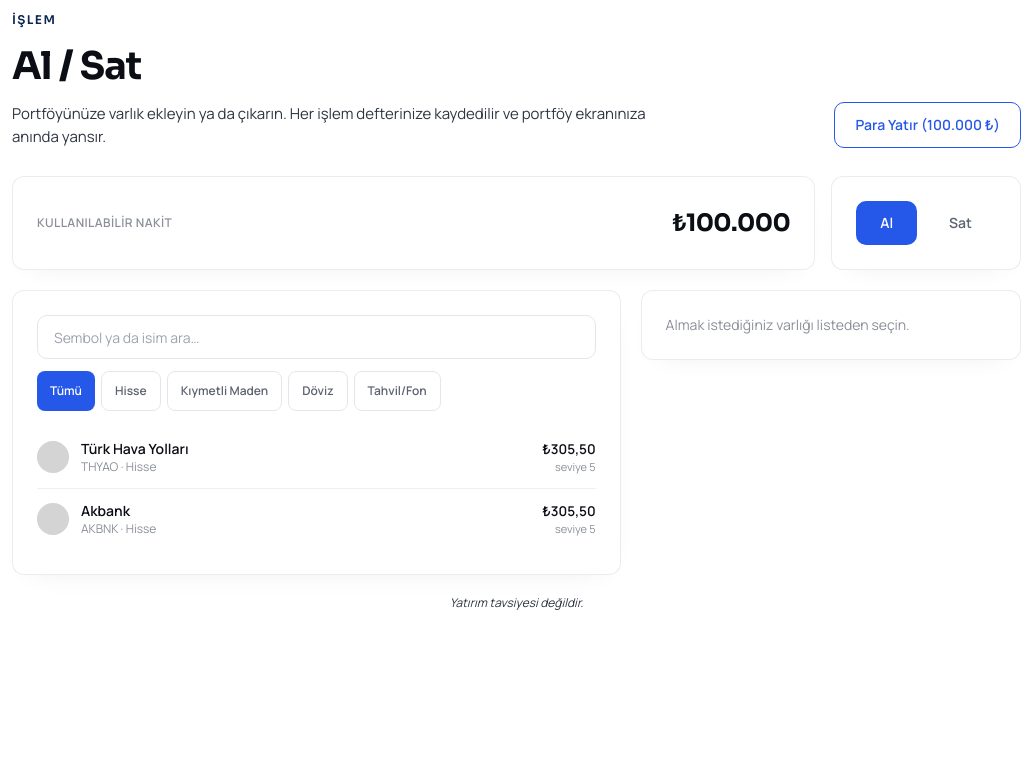
Test: TradePage › SAT sekmesi yalnızca ELDEKİ pozisyonları listeler
The image size is (1036, 780).
Click the button "Sat": (961, 223) top-left (925, 201), bottom-right (996, 245)
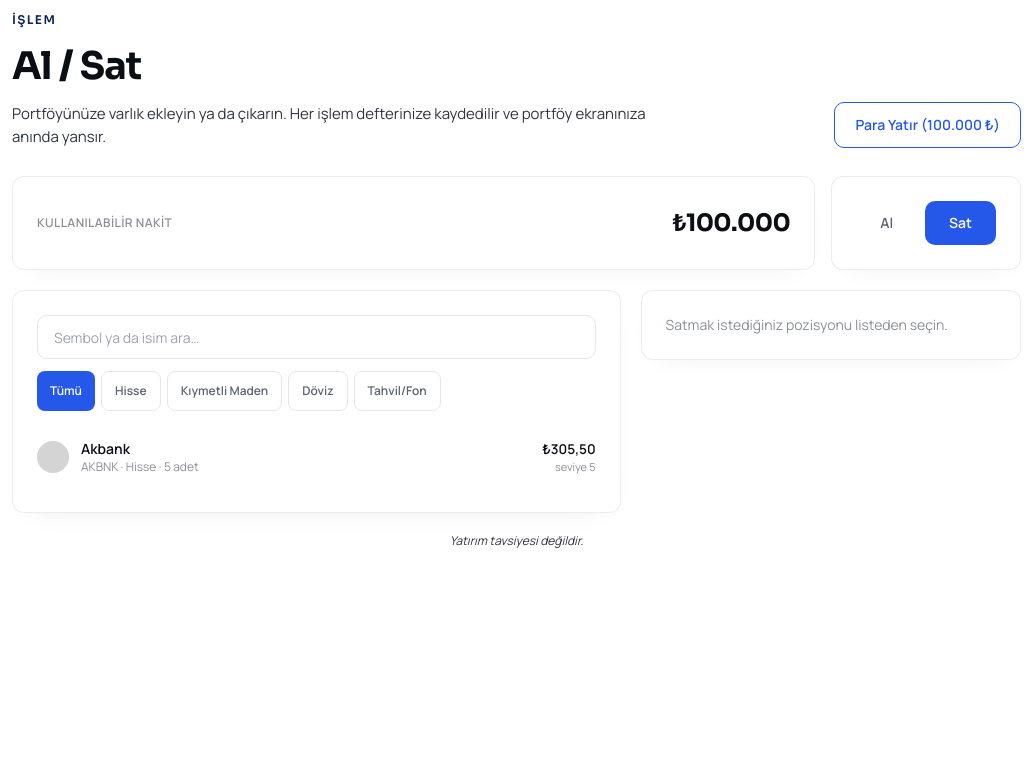
Expected: the button "Akbank AKBNK · Hisse · 5 adet ₺305,50 seviye 5" is shown, top-left (37, 427), bottom-right (596, 488)
Expected: the button "Türk Hava" is gone
